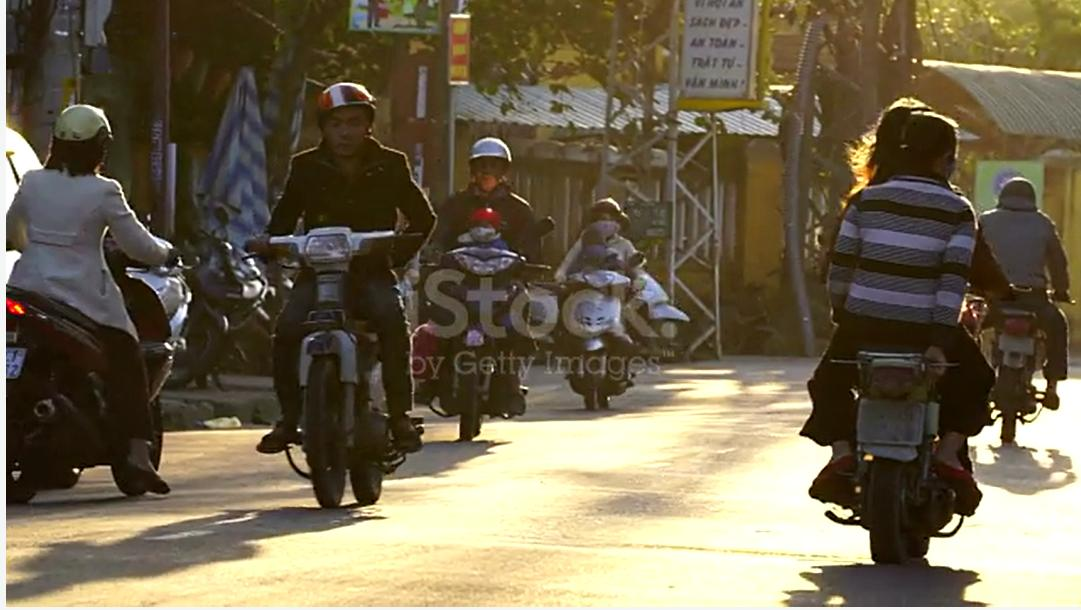motorcycle: (778, 171, 1009, 589), (215, 165, 442, 513), (0, 212, 210, 517), (408, 225, 553, 425), (517, 235, 681, 405), (974, 245, 1071, 478)
